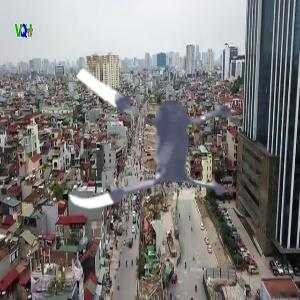drone: (46, 30, 262, 246)
